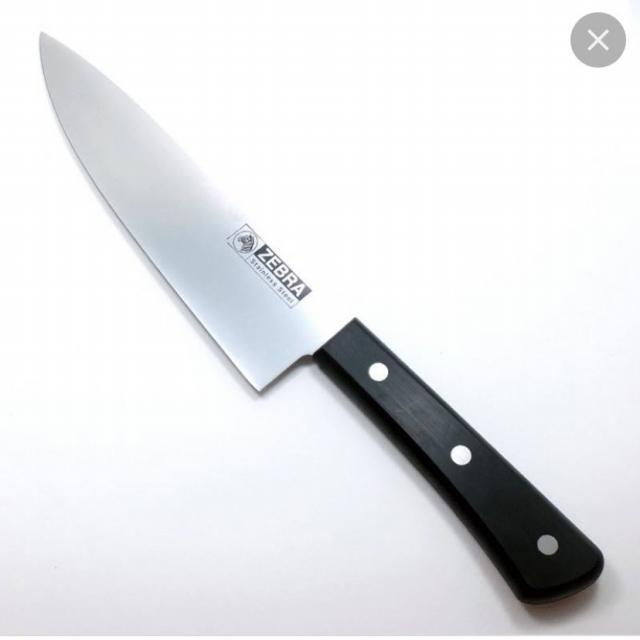Knife: (30, 21, 608, 608)
